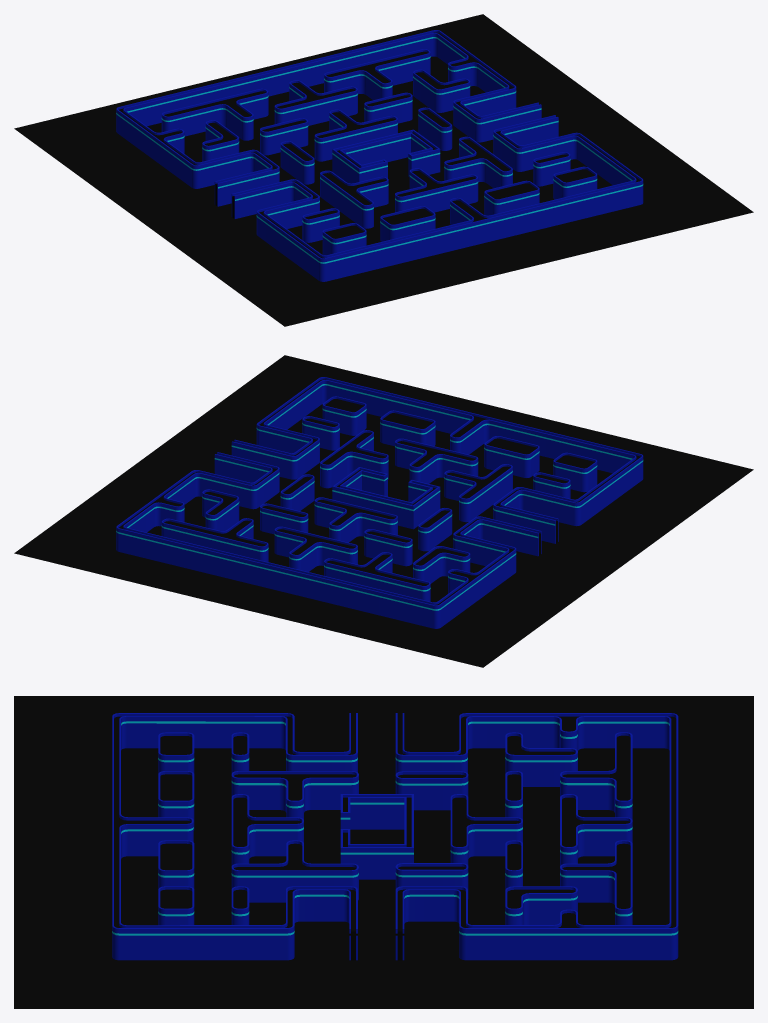
File: Map_Firstperson.fbx
3 renders of one model, top to bottom at view 1: azimuth 30°, elevation 25°; view 2: azimuth 150°, elevation 25°; view 3: azimuth 270°, elevation 25°, orthographic. The views are drawn at different scales.
Parts seen in each view (by area): view 1: Wall, Ground; view 2: Wall, Ground; view 3: Ground, Wall.
Part boxes in pixels (<box>): Wall: <box>116,30,643,281</box>; Ground: <box>14,14,753,326</box>; Wall: <box>116,377,643,628</box>; Ground: <box>14,355,753,667</box>; Ground: <box>14,696,753,1008</box>; Wall: <box>112,713,678,960</box>.
Size of the model in its own units: 500 by 23.5 by 500.
